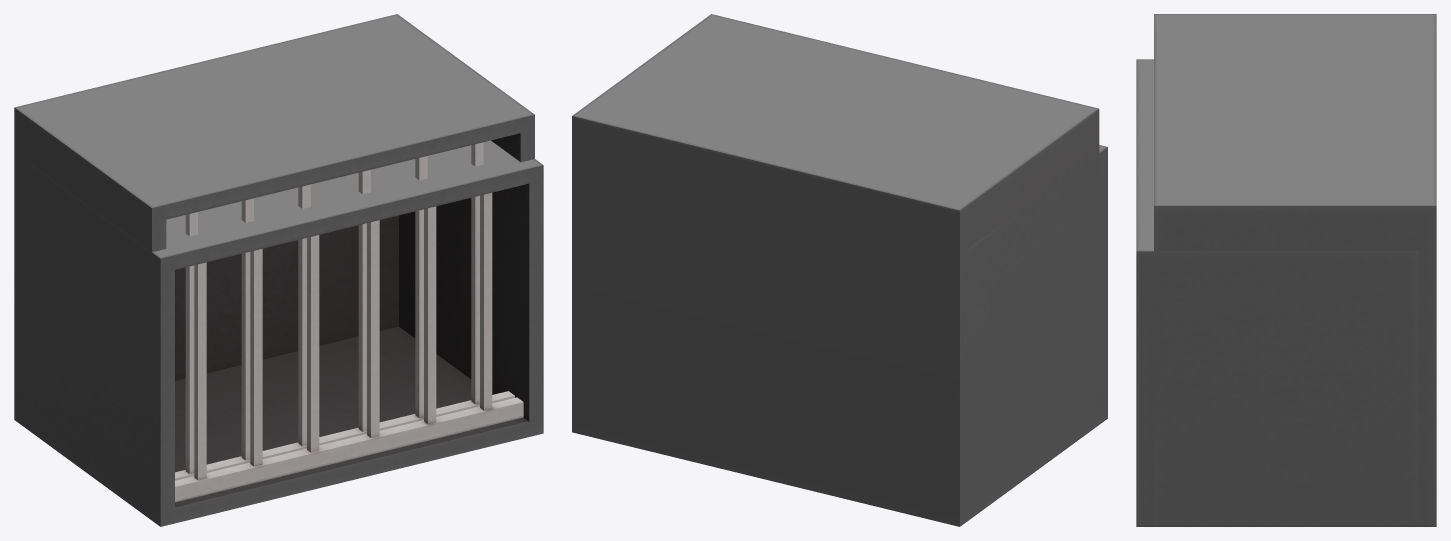
The model's file is Carrier.fbx.
3 renders of one model, left to right at view 1: azimuth 30°, elevation 25°; view 2: azimuth 150°, elevation 25°; view 3: azimuth 270°, elevation 25°, orthographic. The views are drawn at different scales.
Parts seen in each view (by area): view 1: Carrier_Small, Carrier_Big; view 2: Carrier_Big, Carrier_Small; view 3: Carrier_Big, Carrier_Small.
Part boxes in pixels (x1=…): Carrier_Small: x1=23, y1=140, x2=543, y2=526; Carrier_Big: x1=14, y1=14, x2=534, y2=498; Carrier_Big: x1=572, y1=14, x2=1099, y2=526; Carrier_Small: x1=968, y1=145, x2=1107, y2=519; Carrier_Big: x1=1154, y1=14, x2=1436, y2=526; Carrier_Small: x1=1136, y1=59, x2=1418, y2=526.
Bounding box in the file's own units: 16.28 × 12.69 × 10.76.
Materials: 1 (1 with a texture image).
